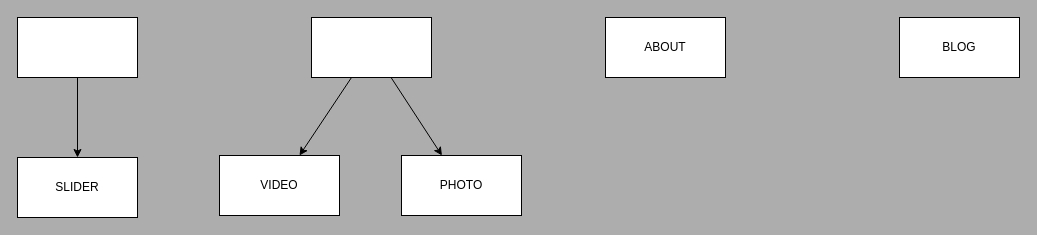
The diagram is 1037 pixels wide and 235 high, and some of its shapes have lost their labels. Each missing label, with the centre of its shape:
"GALLERY PAGE" goes at (371,47).
"HOME" goes at (77,47).
